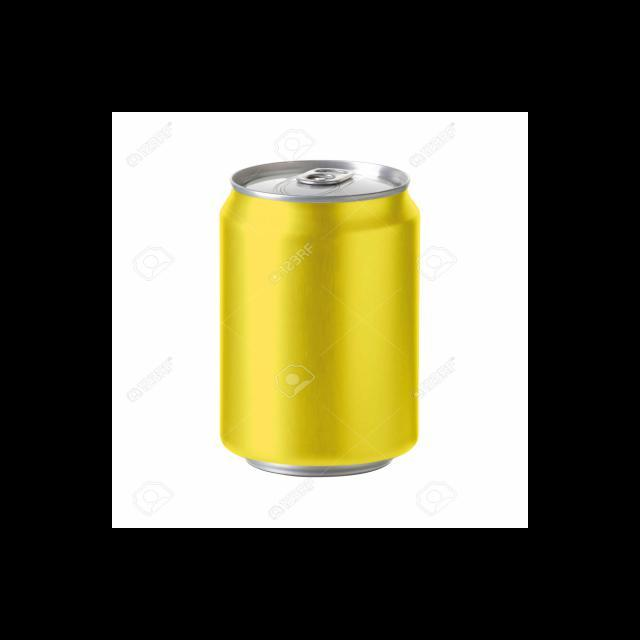metal: (202, 146, 438, 489)
